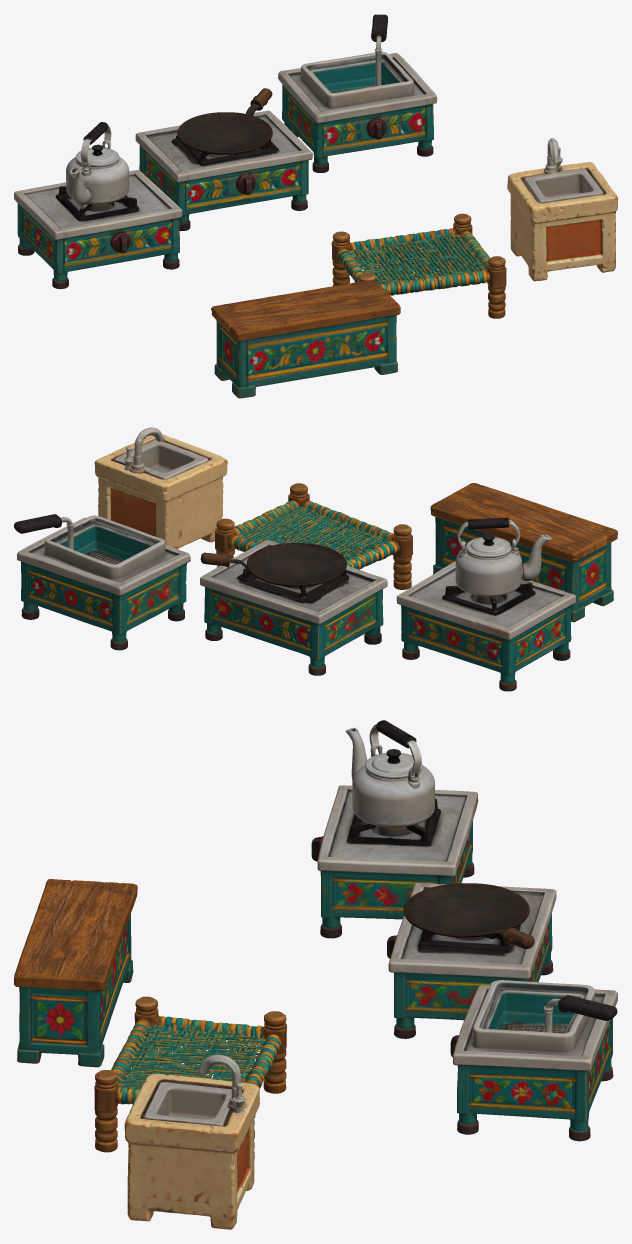
The model's file is tripo_convert_9979ae26-ddb8-4a45-bf42-2fcd356d34f3.fbx.
3 views of the same model, one above another, from view 1: azimuth 30°, elevation 25°; view 2: azimuth 150°, elevation 25°; view 3: azimuth 270°, elevation 25° (orthographic). The views are drawn at different scales.
Parts seen in each view (by area): view 1: tripo_node_9979ae26; view 2: tripo_node_9979ae26; view 3: tripo_node_9979ae26.
Boxes of the visible parts, bbox=[...] form: tripo_node_9979ae26: bbox=[14, 14, 617, 398]; tripo_node_9979ae26: bbox=[14, 427, 617, 691]; tripo_node_9979ae26: bbox=[14, 720, 617, 1229].
Size of the model in its own units: 0.9806 by 0.3323 by 0.7821.
1 material, 1 textured.
